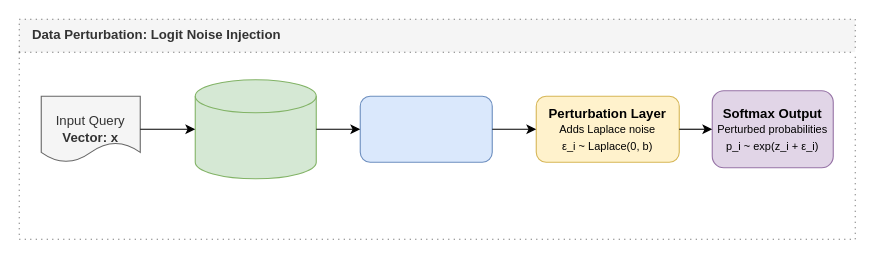
The diagram is 875 pixels wide and 259 high, and some of its shapes have lost their labels. Here are the shapes that lost their labels. From the top down, the centre of each, then its label:
At point (255, 129): "Target Model Computes predictions".
At point (425, 128): "Raw Logits z = [z_1, ..., z_C]".
